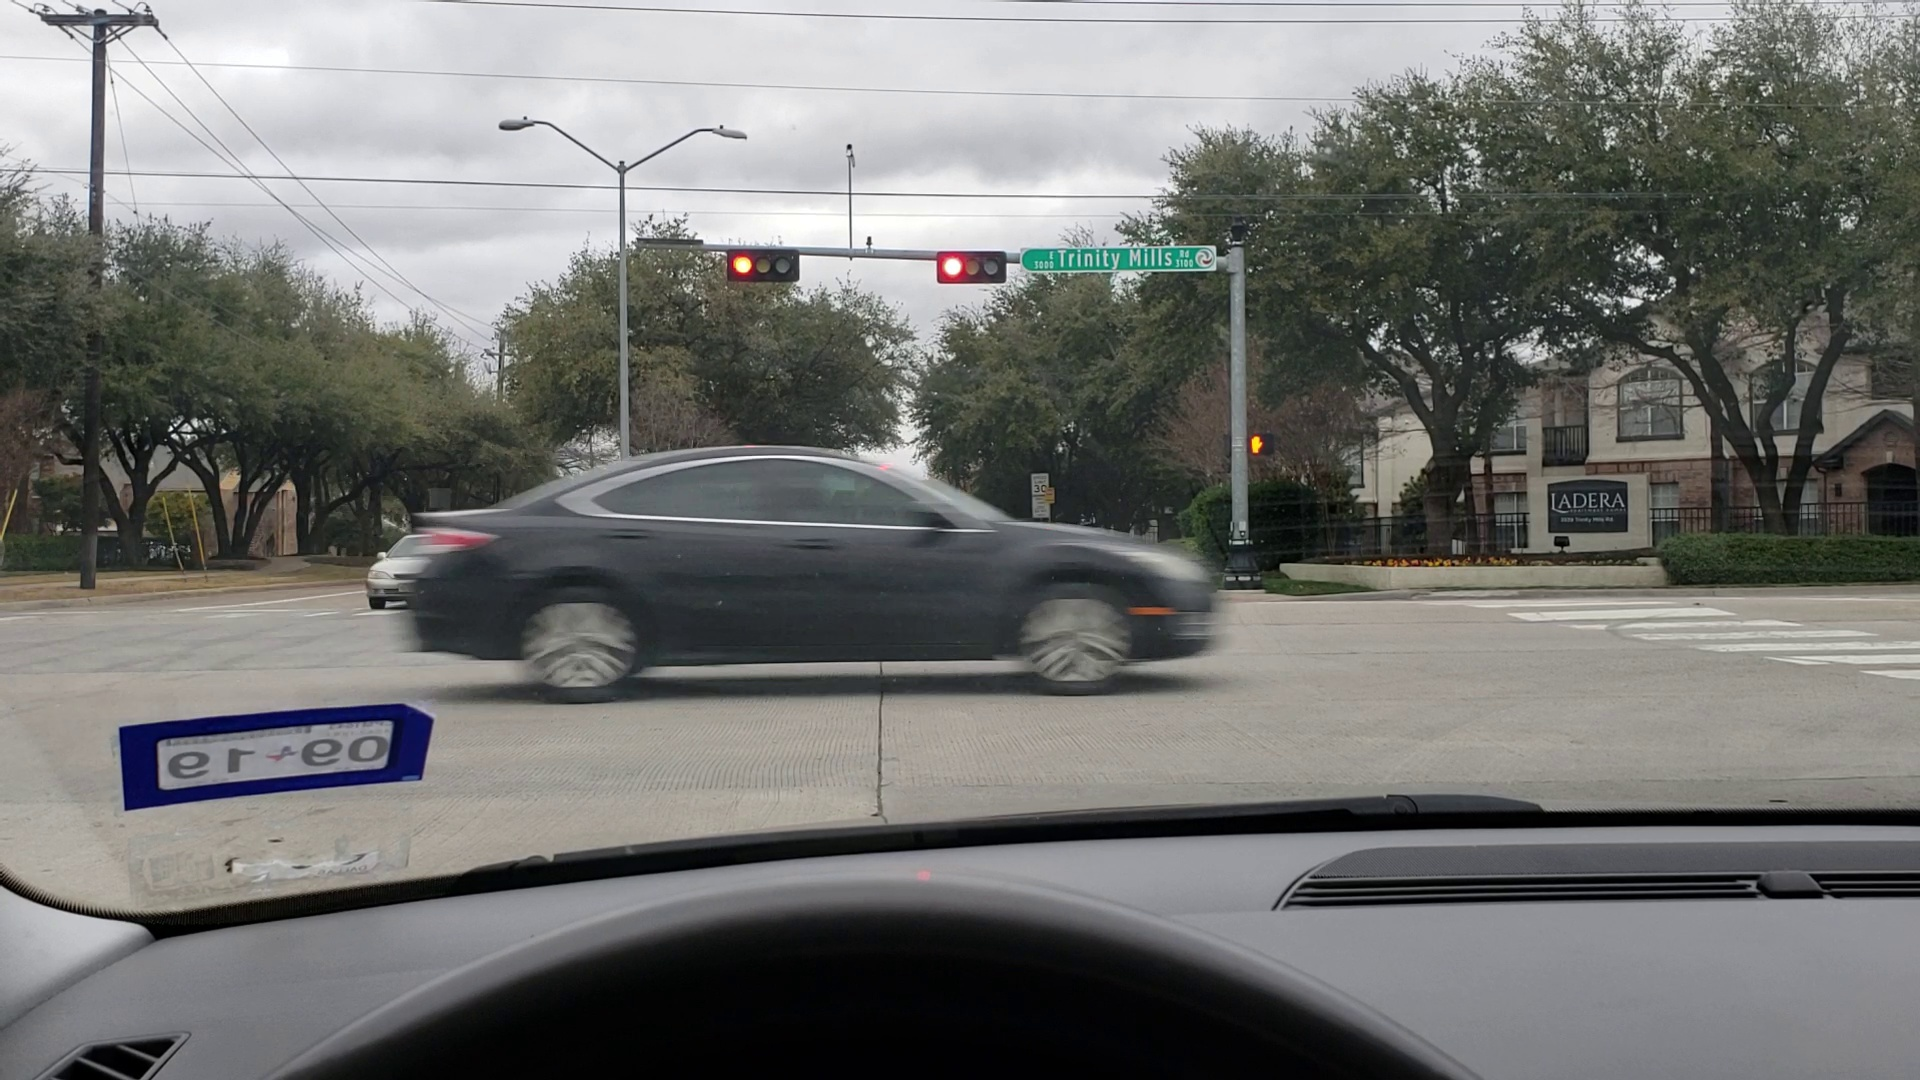car: (405, 440, 1226, 709), (365, 520, 454, 611)
traffic light: (725, 248, 802, 281), (936, 251, 1009, 282)
